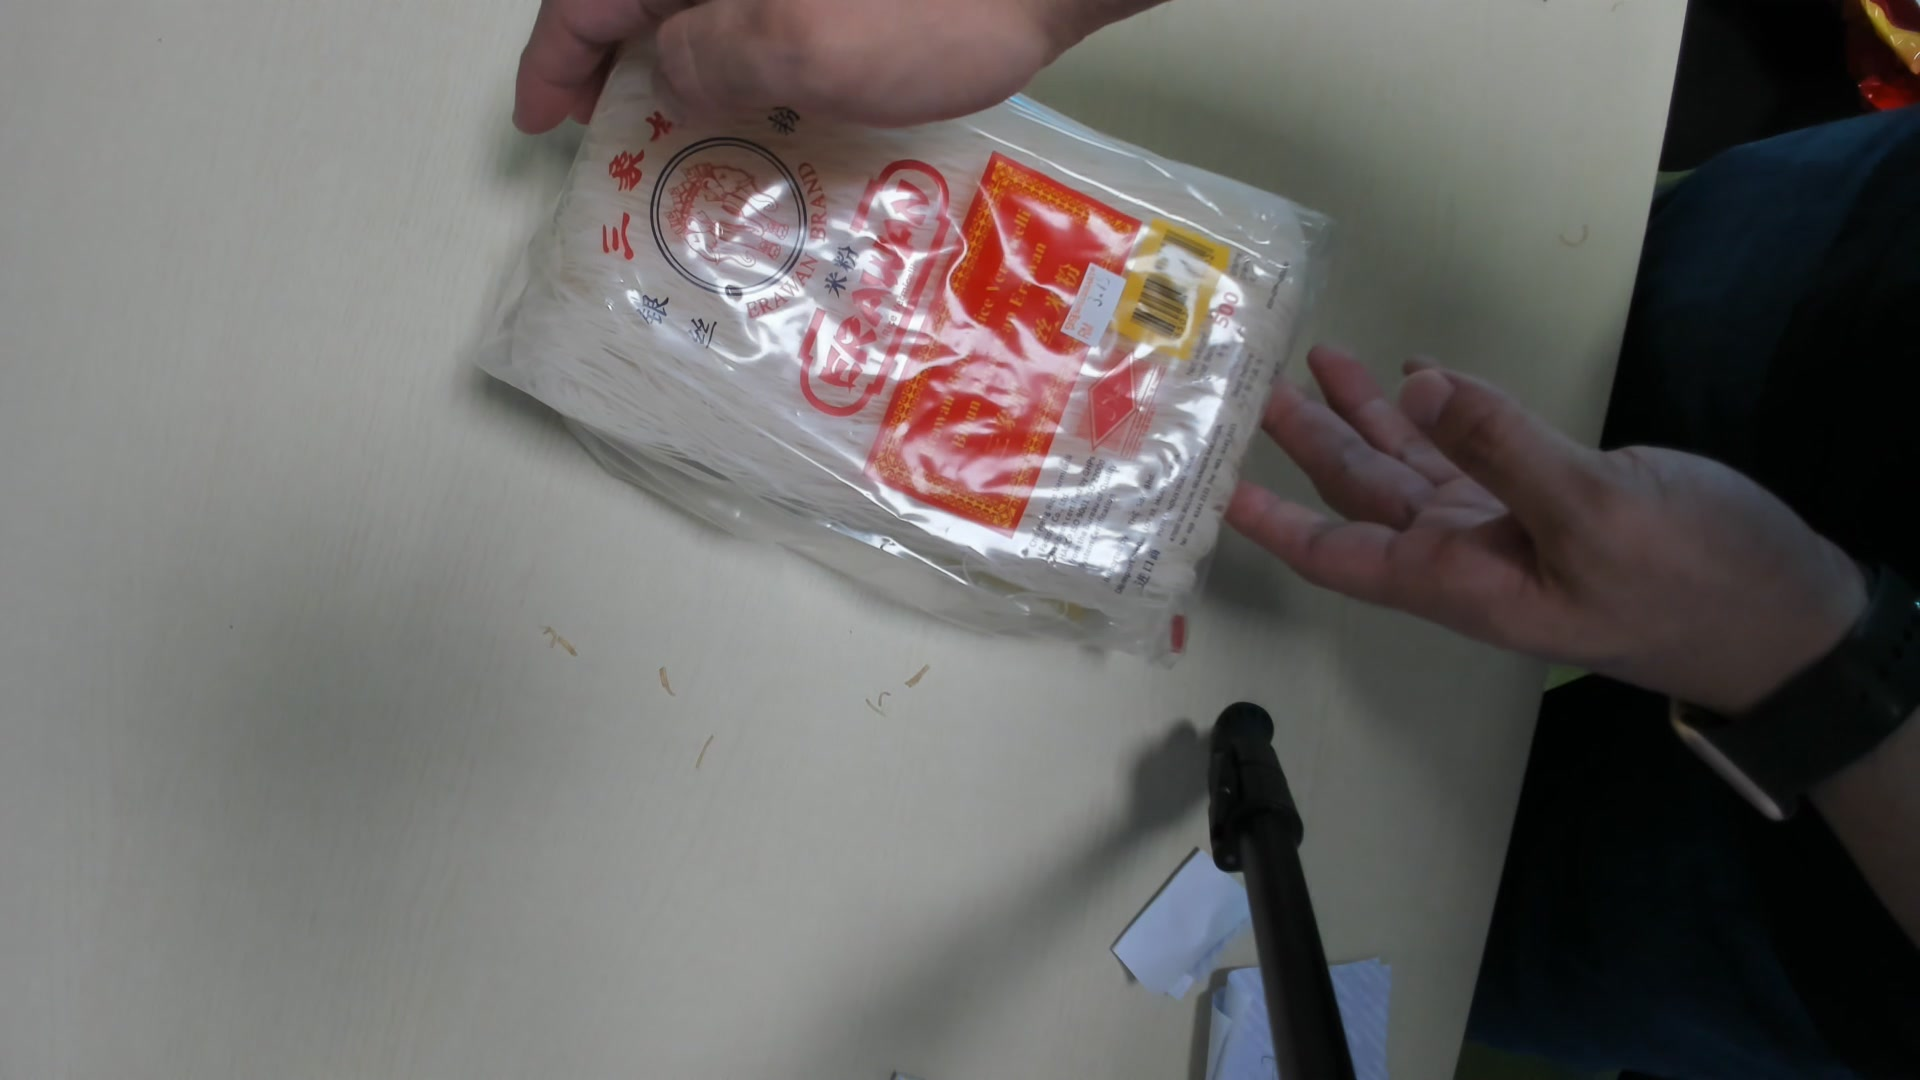BeeHoonVermicelli_500-599g_Halal_NonHealthy: (460, 44, 1333, 665)
